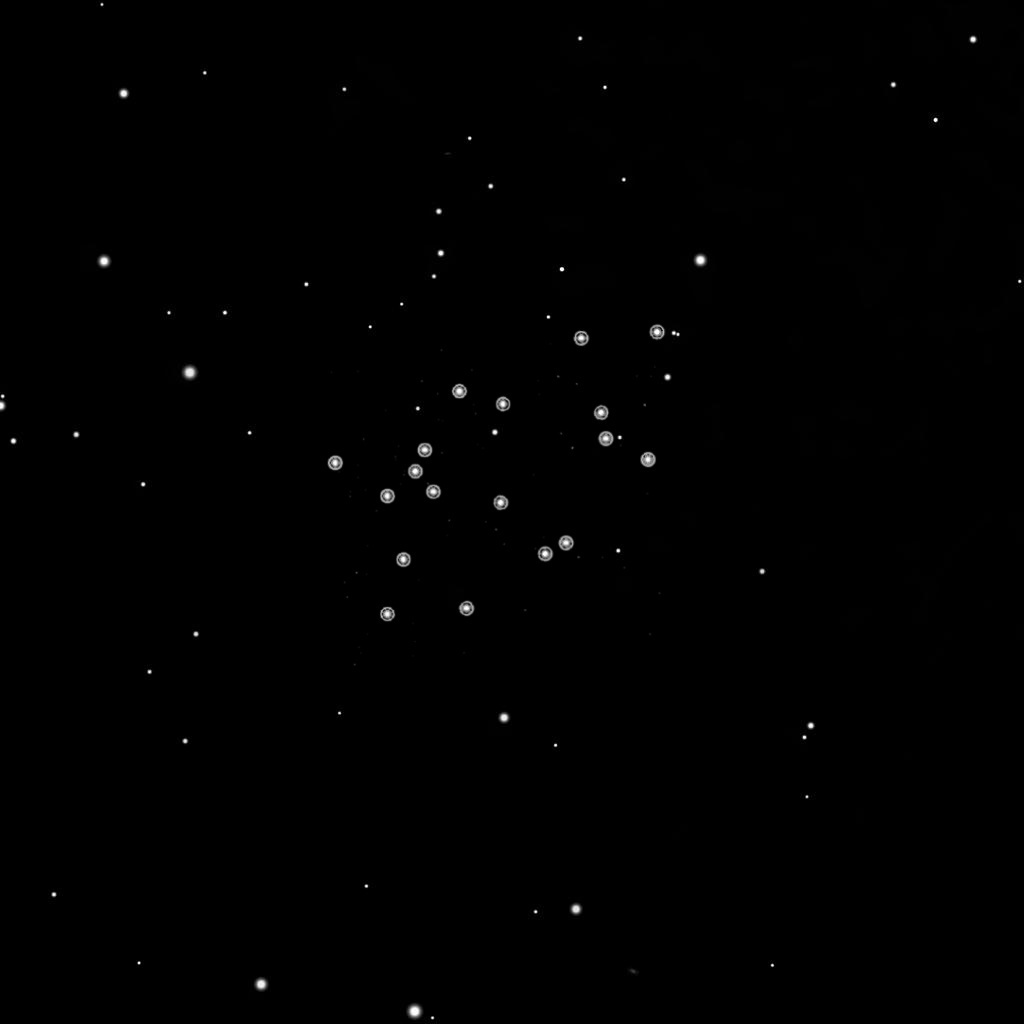canis_major: (372, 381, 517, 509)
